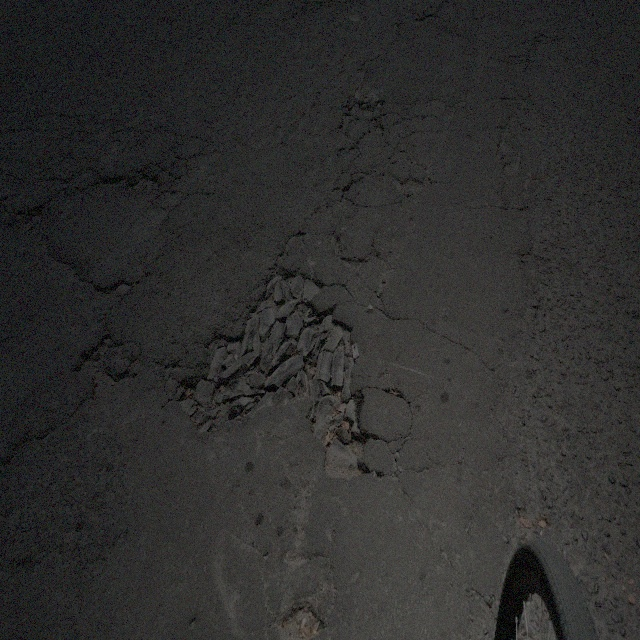pothole: (172, 250, 370, 480), (274, 595, 326, 635), (496, 122, 522, 174), (18, 201, 47, 237), (386, 170, 424, 197), (129, 173, 160, 193), (343, 252, 361, 268), (421, 11, 436, 21)
